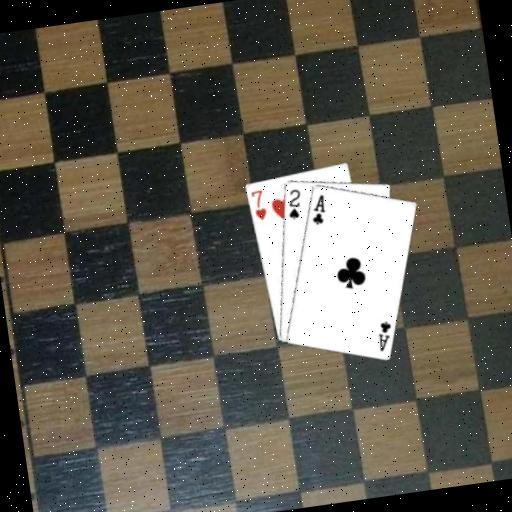2S: (282, 186, 305, 222)
7H: (248, 186, 269, 223)
AC: (306, 191, 329, 227), (373, 317, 396, 353)
